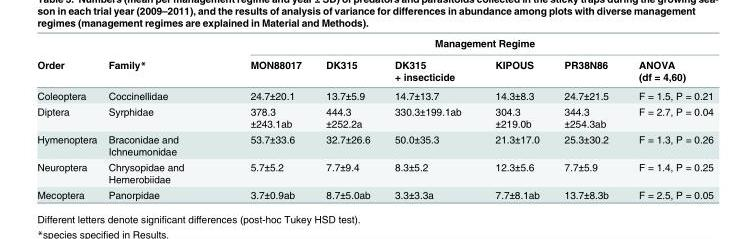table: (36, 36, 712, 200)
table column: (102, 36, 216, 200), (216, 36, 313, 200), (381, 36, 477, 200), (623, 36, 712, 200), (477, 36, 551, 200), (551, 36, 623, 200), (313, 36, 381, 200), (36, 36, 102, 200)
table column header: (36, 36, 712, 85)
table row: (36, 53, 712, 85), (36, 130, 712, 158), (36, 158, 712, 186), (36, 103, 712, 130), (36, 85, 712, 103), (36, 36, 712, 53), (36, 186, 712, 200)
table spanning cell: (216, 36, 712, 53), (102, 36, 216, 85), (36, 36, 102, 85)
